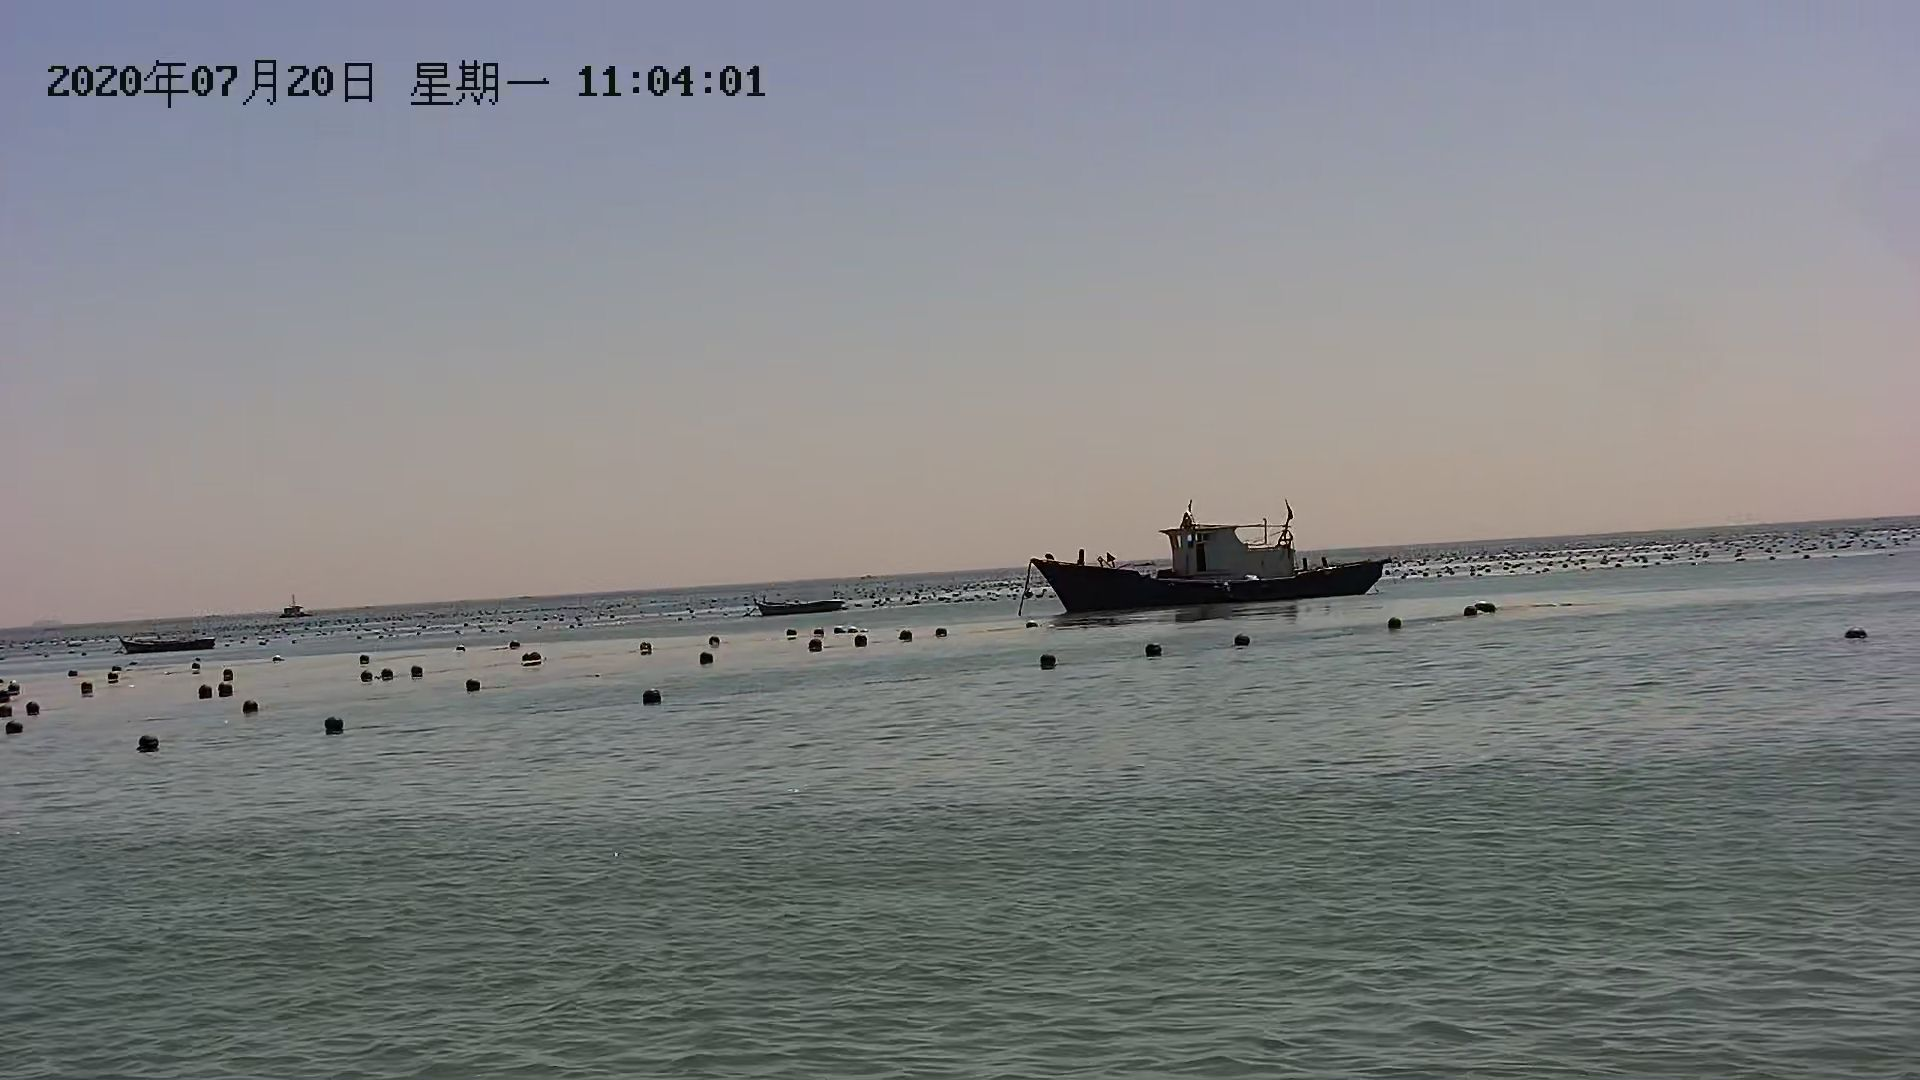ball: (135, 732, 164, 760), (405, 651, 431, 680), (1229, 618, 1255, 647), (1387, 615, 1414, 644), (1845, 618, 1871, 647), (104, 655, 131, 684), (236, 691, 262, 719), (73, 674, 99, 702), (21, 690, 47, 717), (208, 671, 235, 699), (375, 657, 401, 684), (1035, 649, 1062, 676), (1139, 632, 1166, 659), (462, 669, 487, 698), (694, 644, 719, 673), (800, 626, 825, 655), (189, 670, 214, 698), (353, 662, 378, 690), (520, 641, 545, 669), (640, 678, 665, 705), (1466, 593, 1491, 621), (319, 713, 348, 737)
boat: (752, 599, 851, 616), (120, 632, 219, 649)
ship: (1022, 509, 1393, 607)
